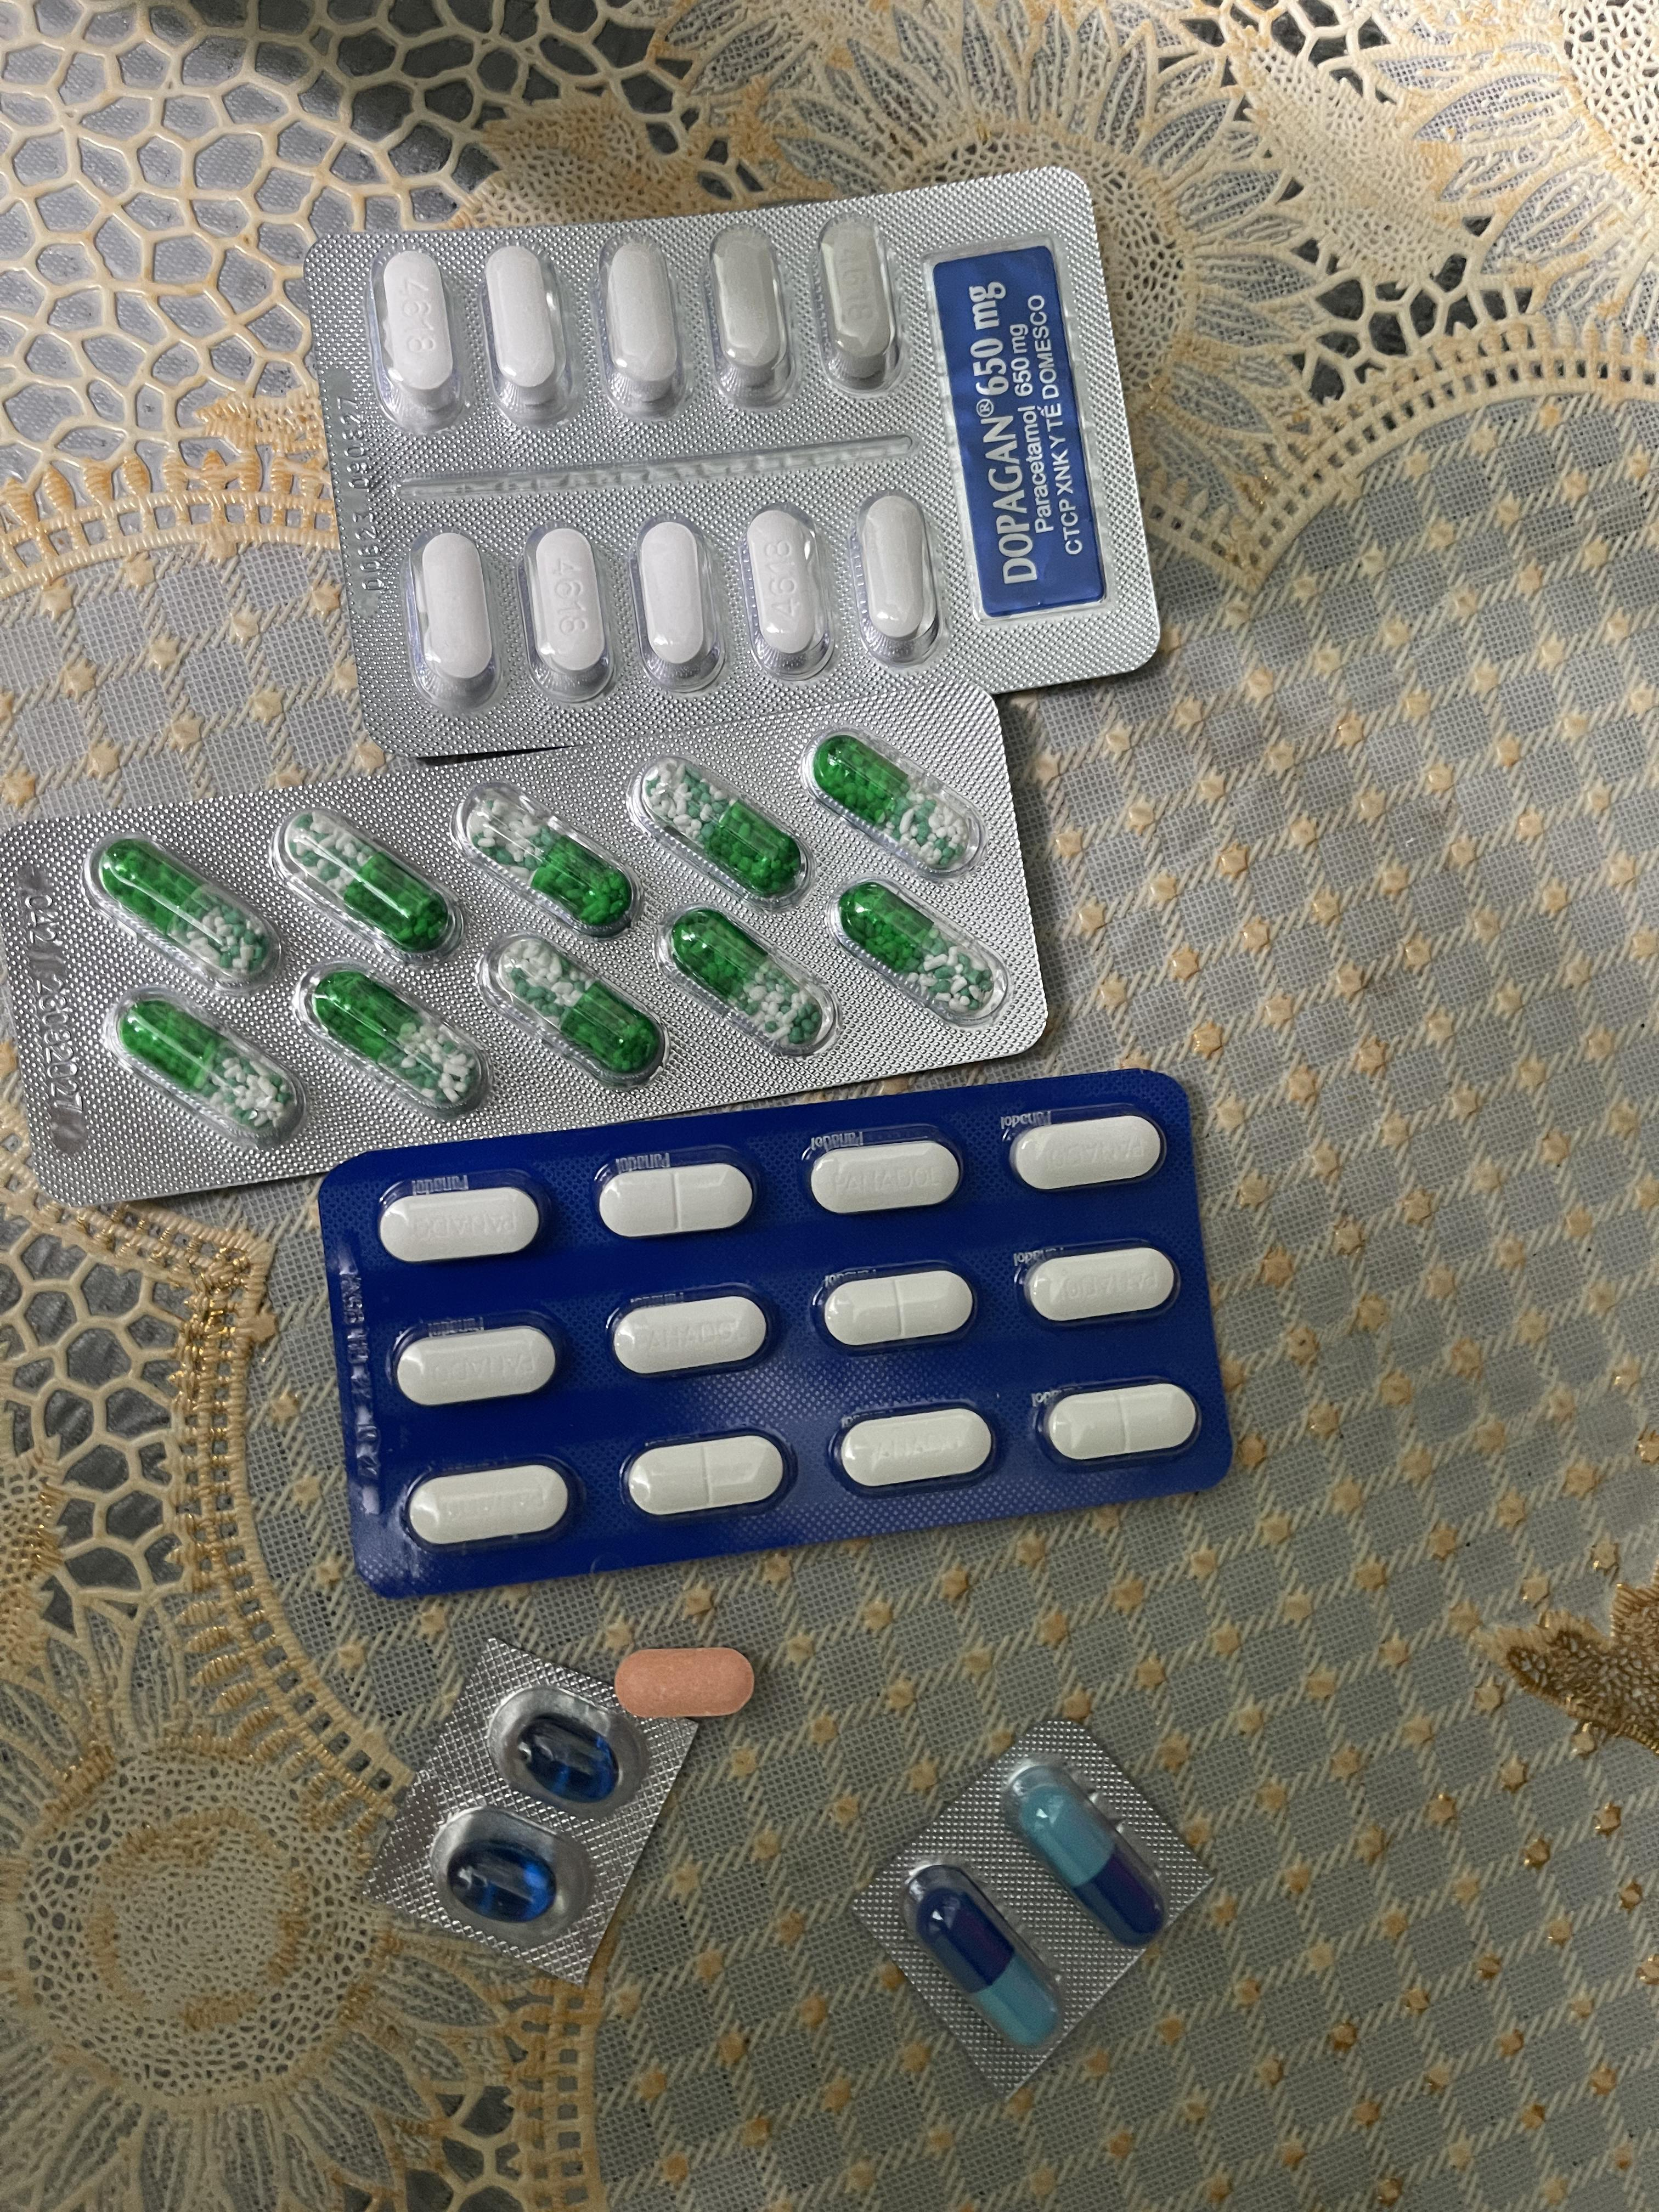Lincomyxin_500mg: (512, 1714, 619, 1801), (448, 1841, 556, 1921)
Loratadine_10mg: (613, 1648, 756, 1719)
Paracetamol_350mg: (392, 1318, 565, 1409), (376, 1176, 551, 1264), (406, 1460, 579, 1548), (608, 1289, 777, 1379), (624, 1432, 793, 1519), (833, 1404, 999, 1493), (803, 1129, 964, 1217), (1042, 1378, 1202, 1465), (1019, 1240, 1180, 1327), (596, 1155, 758, 1240), (817, 1266, 976, 1350), (1009, 1113, 1164, 1193)
Paracetamol_500mg: (594, 230, 687, 418), (406, 529, 502, 711), (373, 247, 465, 430), (629, 521, 727, 693), (708, 221, 795, 408), (742, 505, 835, 679), (521, 528, 615, 698), (850, 495, 945, 665), (812, 212, 901, 392), (483, 244, 566, 420)
Paracetamol_650mg: (106, 988, 305, 1144), (84, 833, 282, 988), (275, 806, 462, 961), (636, 758, 810, 904), (831, 871, 1006, 1015), (662, 907, 830, 1052), (308, 974, 476, 1106), (488, 941, 655, 1073), (469, 794, 631, 925), (814, 737, 972, 866)
pill: (1007, 1761, 1166, 1944), (911, 1867, 1065, 2045)
